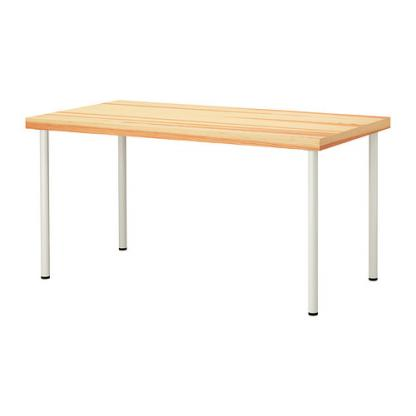Table: (19, 92, 394, 322)
